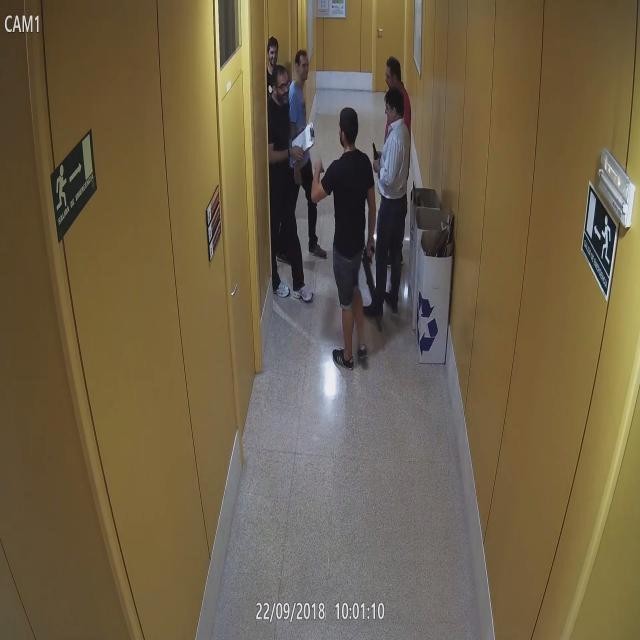weapon: (359, 240, 391, 332), (369, 141, 384, 180)
